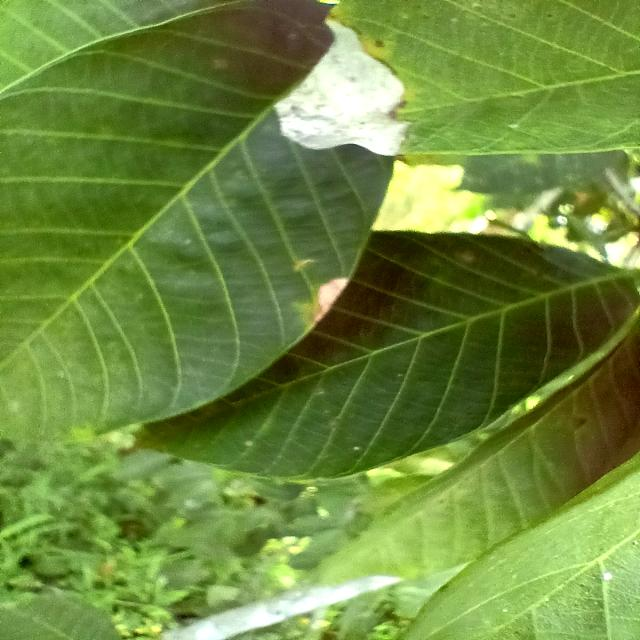Leaf-Blight: (272, 18, 410, 156), (308, 279, 350, 323)
